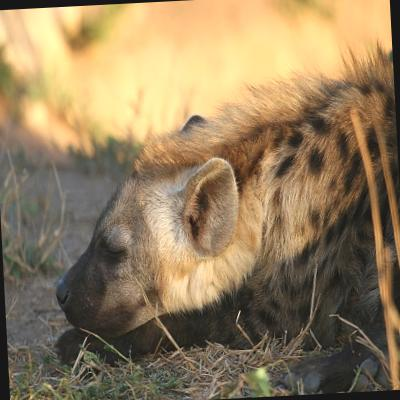hyenas: (5, 47, 400, 400)
